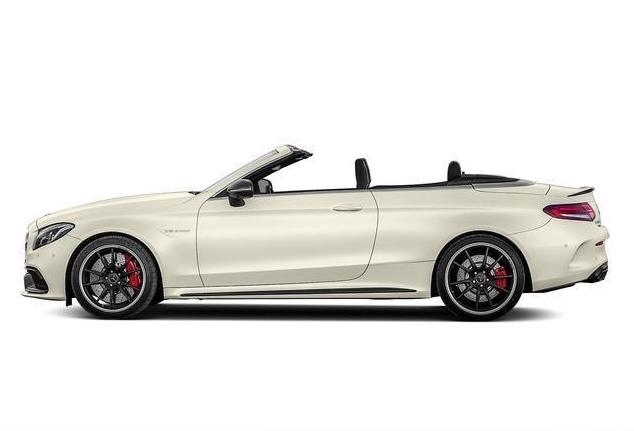C63AMG: (20, 135, 614, 322)
